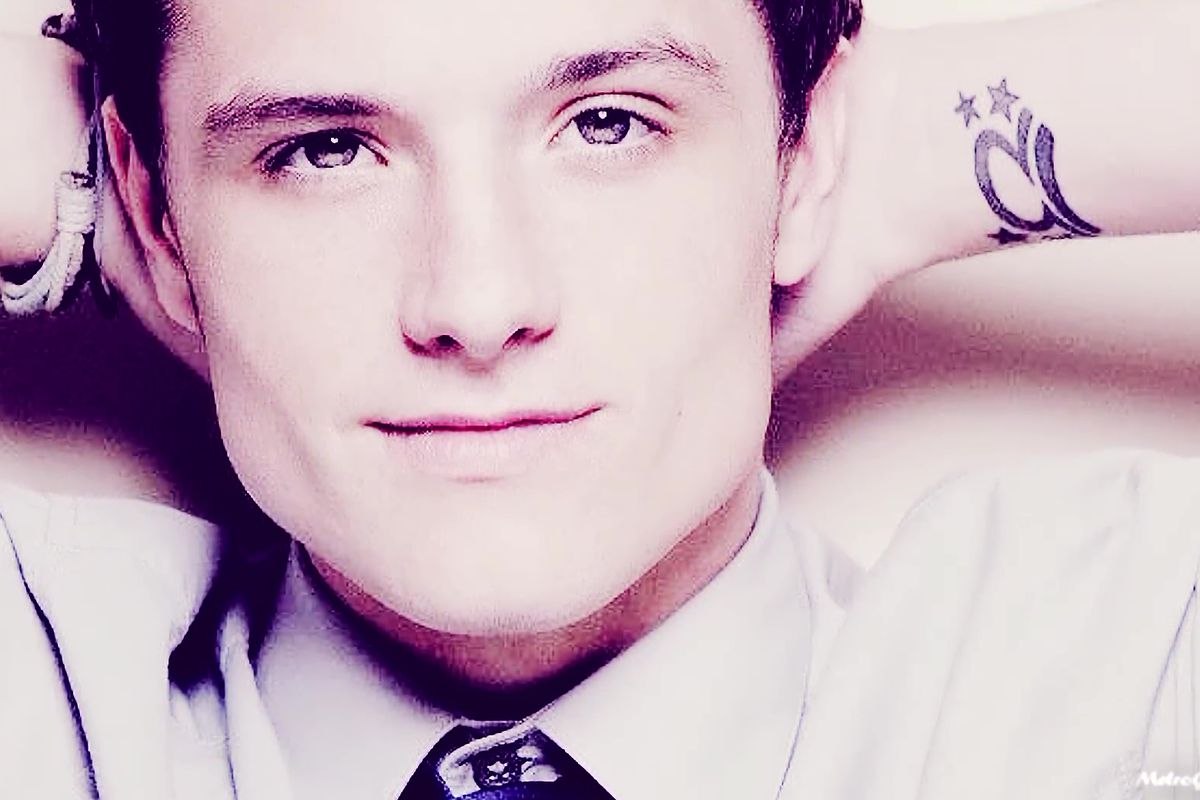mewing: (148, 10, 834, 645)
